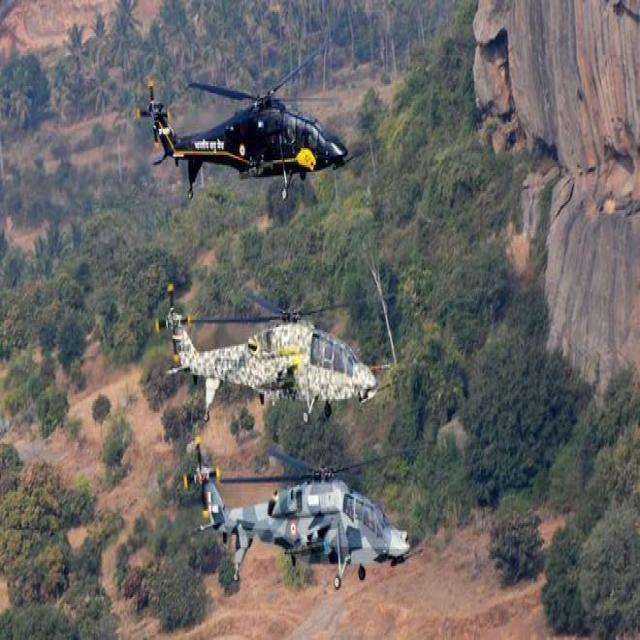MIL_HELO: (150, 268, 406, 435), (130, 42, 366, 202), (185, 436, 414, 581)
